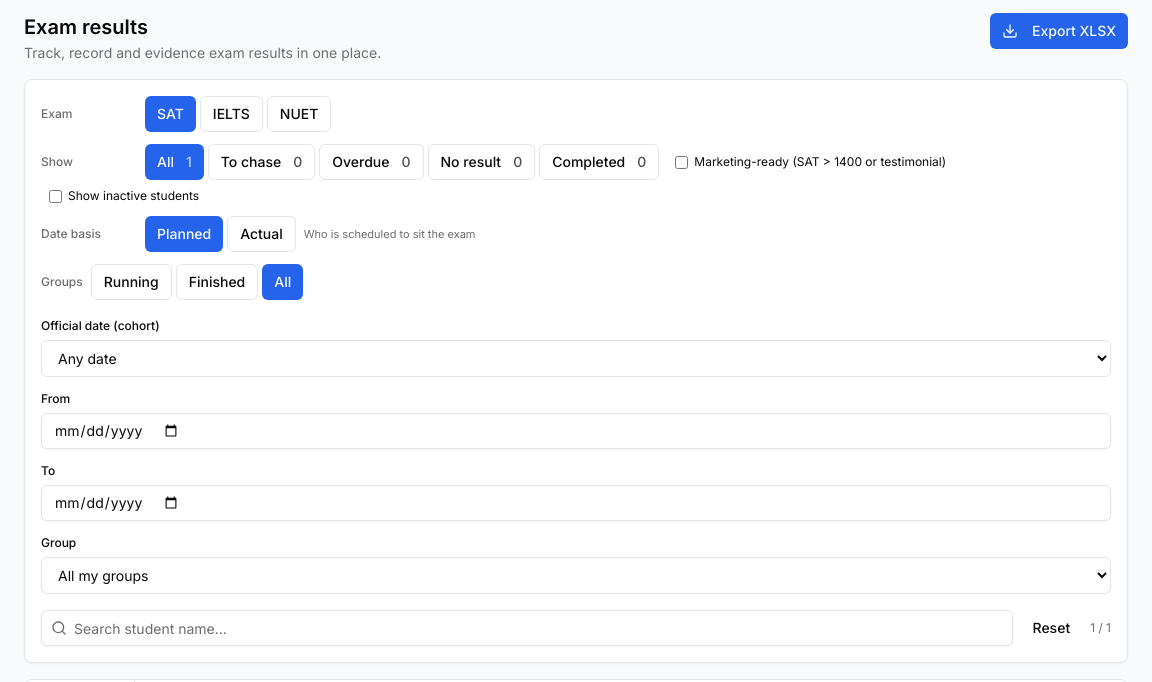
Scenario: exam-results page: Show inactive students › turning it on reloads the list with includeInactive, and a deactivated row says so
Click the checkbox labelled "Show inactive students": (56, 196) [49,190,62,202]
(page scrolled)
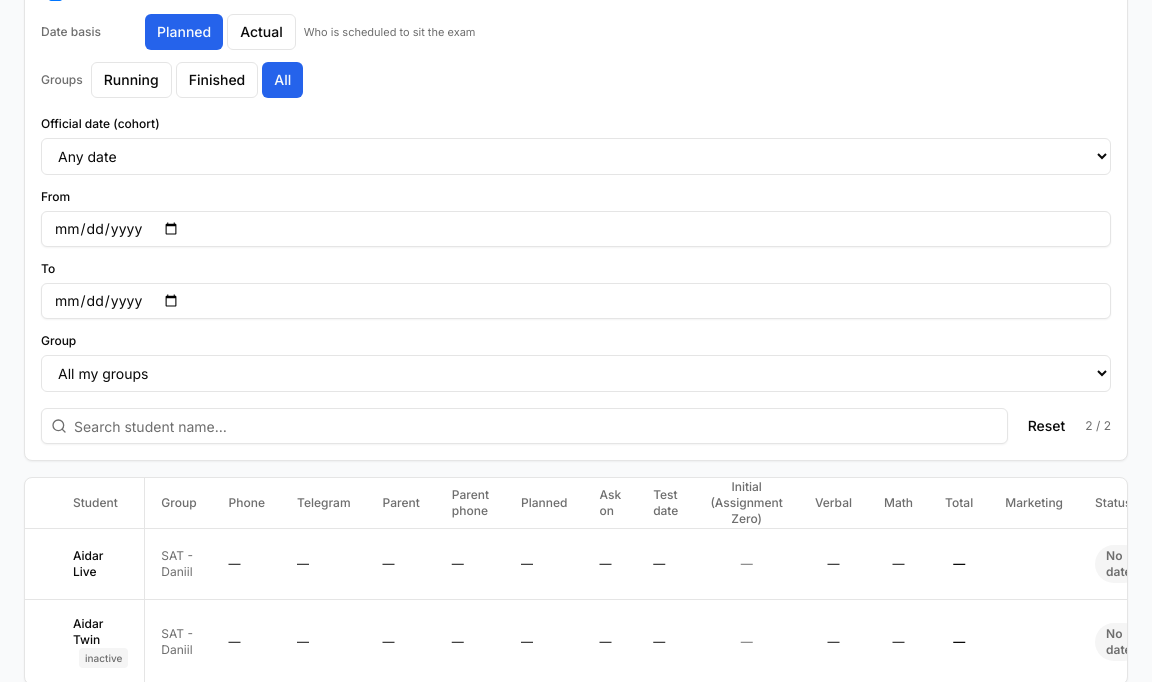
Expected: the text "Aidar Twin" is shown, [73,616,104,647]
Expected: the row titled "This account is deactivated." shows "Aidar Twin", [73,616,104,647]
